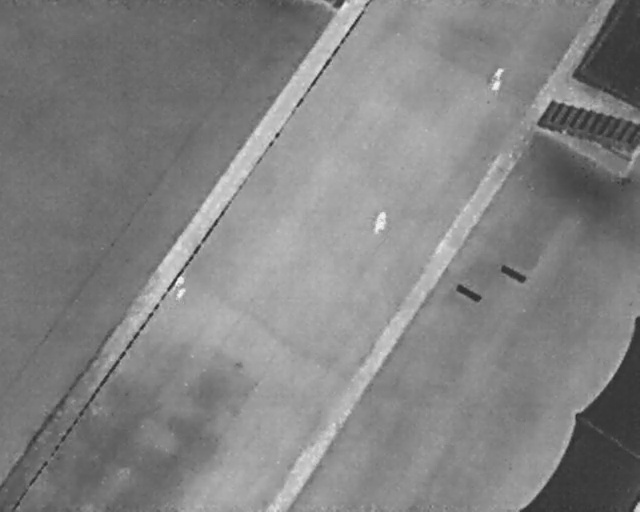Person: (370, 206, 390, 238), (490, 64, 505, 92), (172, 275, 188, 301)
